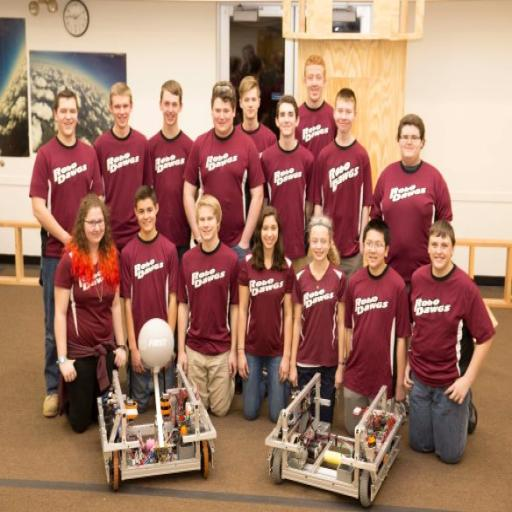robot: (264, 322, 400, 501), (92, 307, 210, 484)
